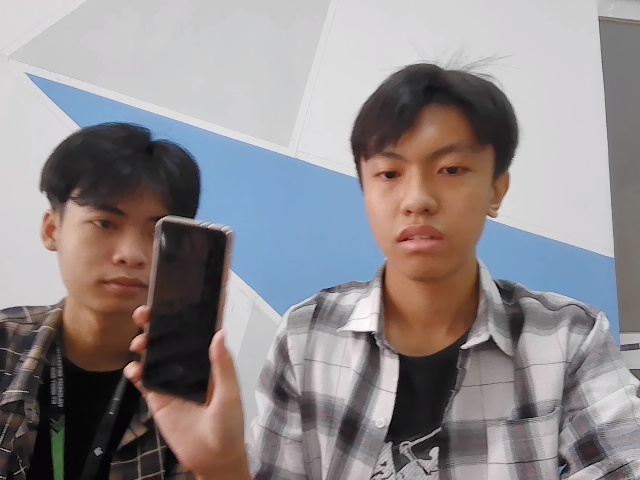human: (353, 61, 515, 290), (38, 119, 204, 313)
phone: (136, 210, 241, 402)
